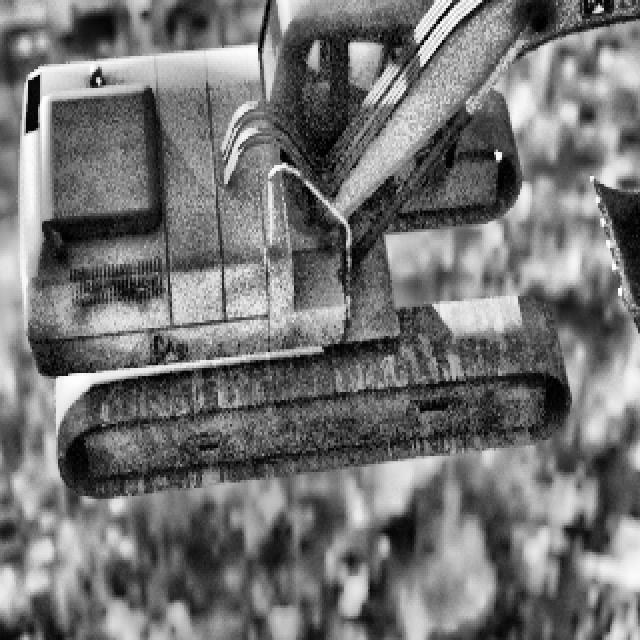excavator: (18, 0, 640, 496)
